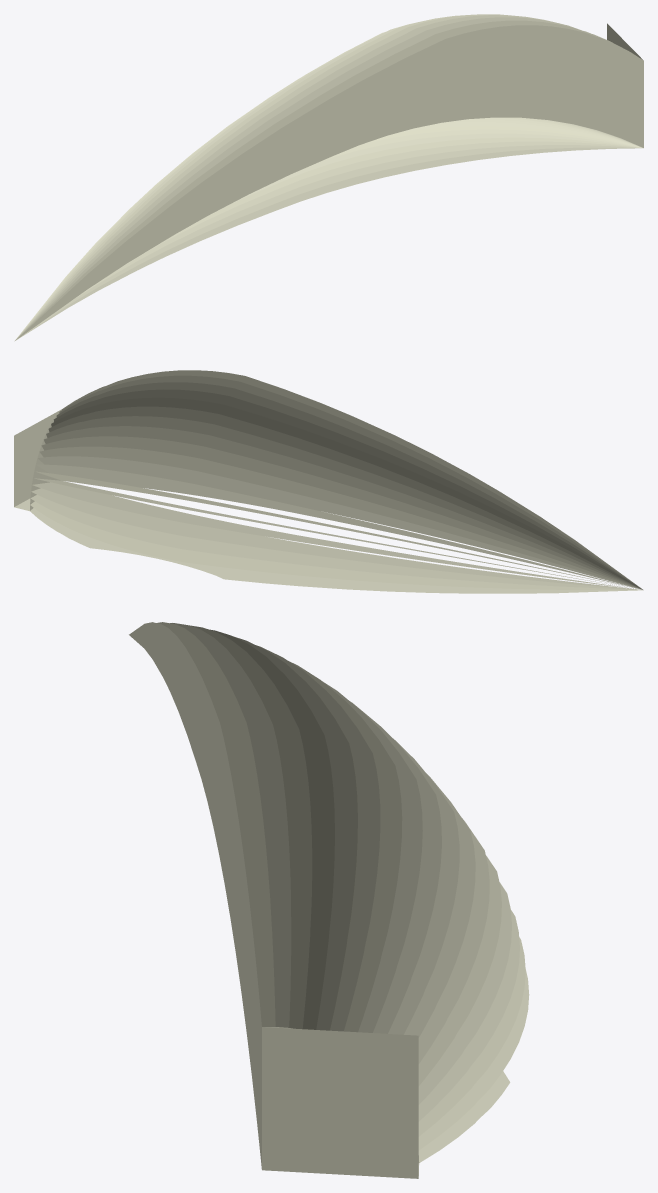
File: original-8.obj
3 renders of one model, top to bottom at view 1: azimuth 30°, elevation 25°; view 2: azimuth 150°, elevation 25°; view 3: azimuth 270°, elevation 25°, orthographic. The views are drawn at different scales.
Visible parts, largest first — view 1: Group6/mesh26/mesh26-geometry#mesh26-geometry; view 2: Group6/mesh26/mesh26-geometry#mesh26-geometry; view 3: Group6/mesh26/mesh26-geometry#mesh26-geometry.
Boxes of the visible parts, x1,y1,x2,y2 form: Group6/mesh26/mesh26-geometry#mesh26-geometry: (14, 14, 643, 341); Group6/mesh26/mesh26-geometry#mesh26-geometry: (14, 370, 643, 593); Group6/mesh26/mesh26-geometry#mesh26-geometry: (129, 622, 529, 1178).
Size of the model in its own units: 0.3627 by 0.0866 by 0.1128.
